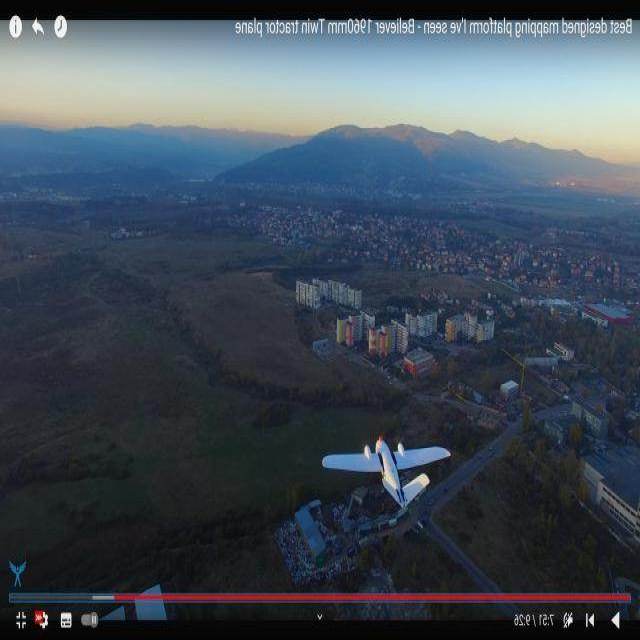iha: (318, 461, 460, 494)
